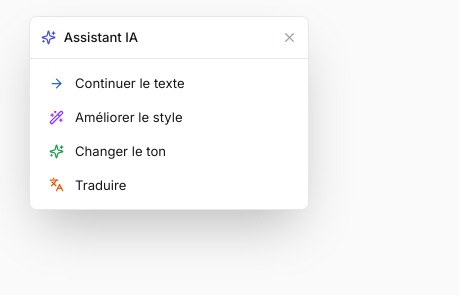
Scenario: AIContextMenu › Main Actions › should show tone submenu when clicking change tone
Click the button "Changer le ton": (169,151) [38,134,300,168]
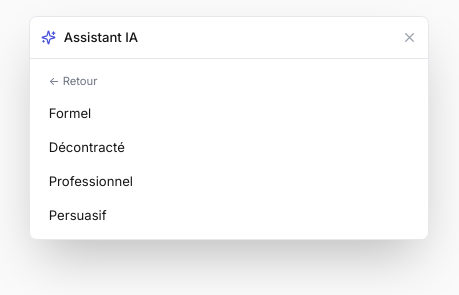
Expected: the button "Formel" is shown, [38,97,420,131]
Expected: the button "Décontracté" is shown, [38,130,420,164]
Expected: the button "Professionnel" is shown, [38,164,420,198]
